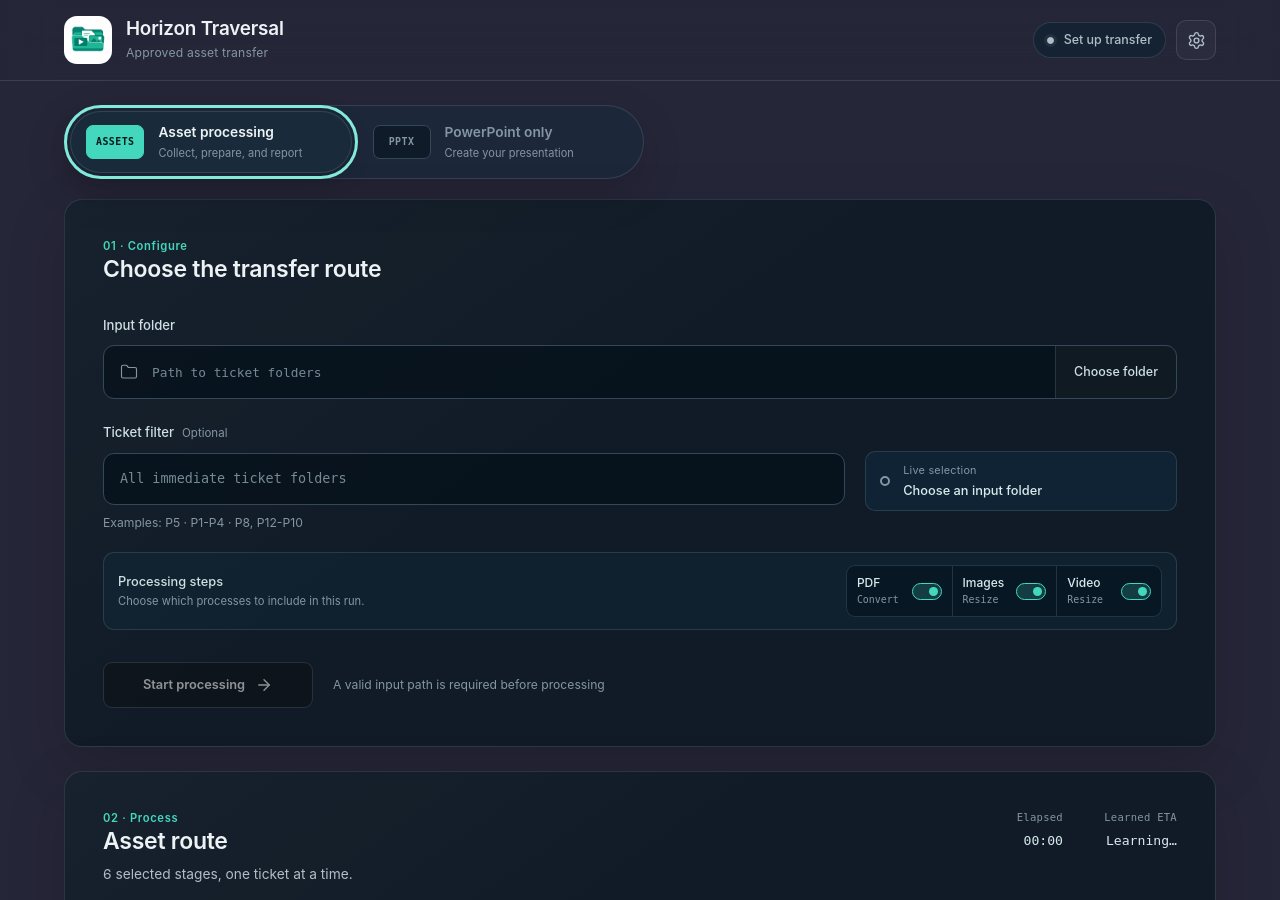
Horizon Traversal workbench › requests cooperative cancellation for the active PowerPoint run
Press ArrowRight in the tab "Assets Asset processing Collect, prepare, and report", box [70,111,352,173]
Wait 1 ms
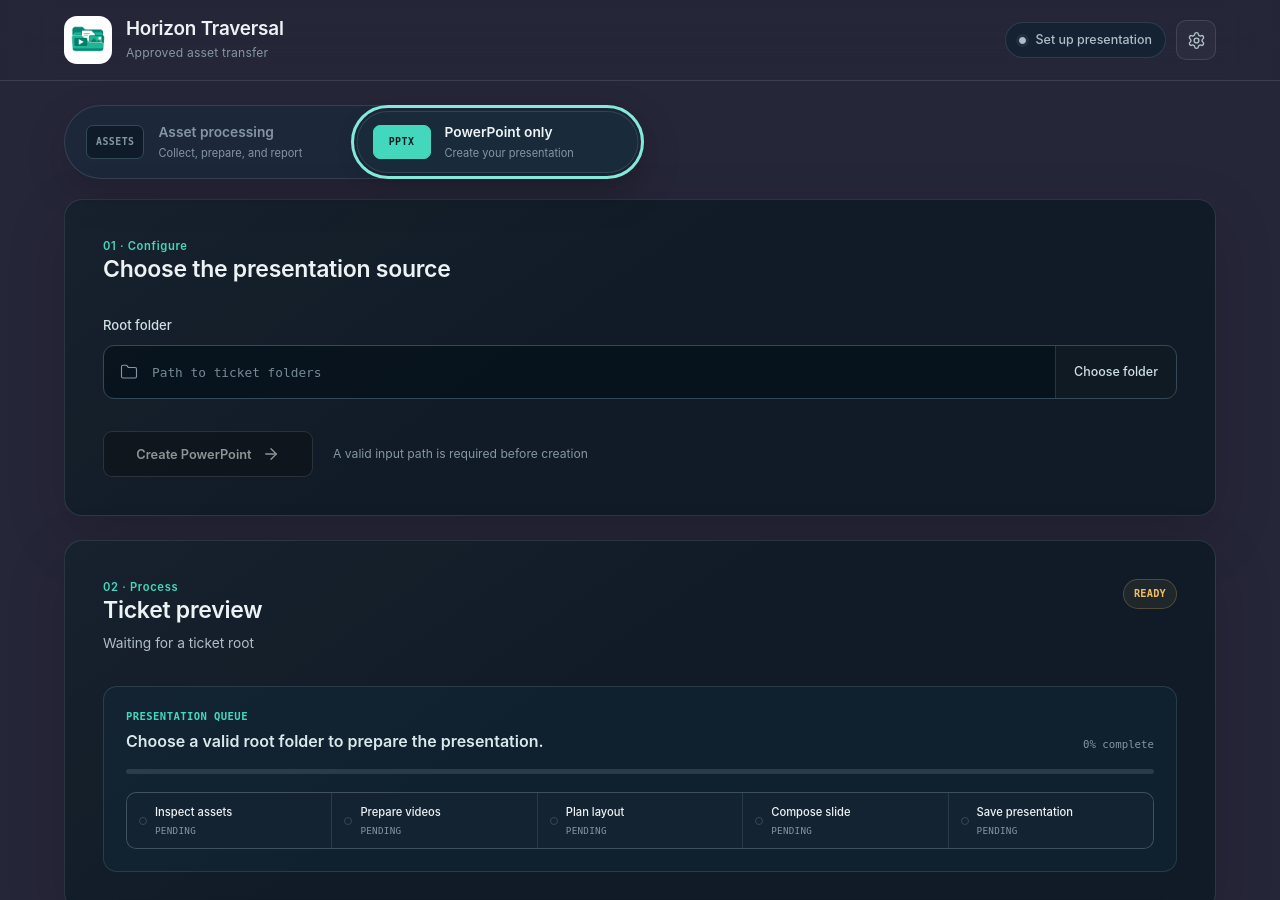
Type "/powerpoint-tickets" into the field labelled "Root folder" at point(596, 372), box [138,348,1055,397]
Wait 360 ms
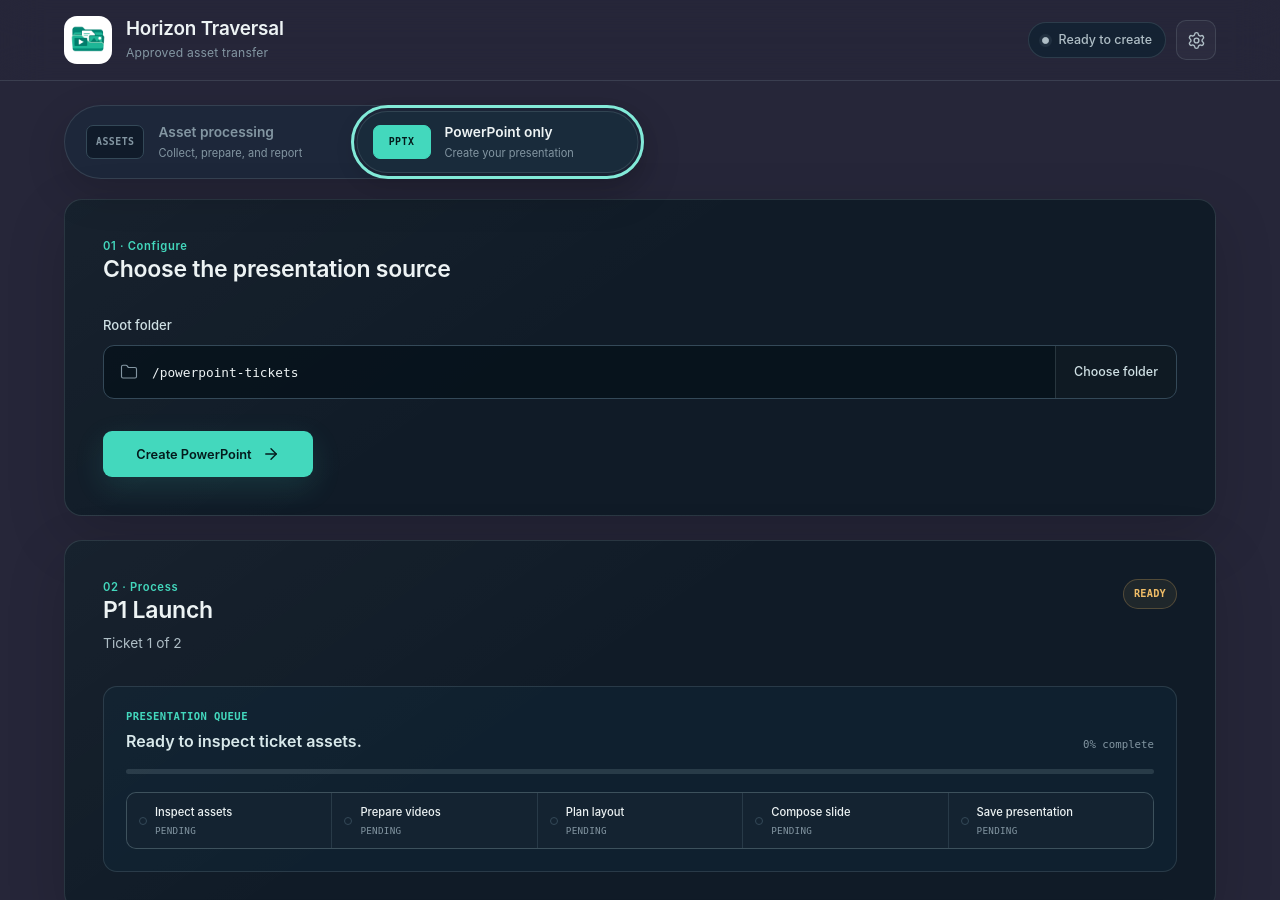
Click the button "Create PowerPoint" at point(208, 454), box [103,431,313,477]
Wait 20 ms
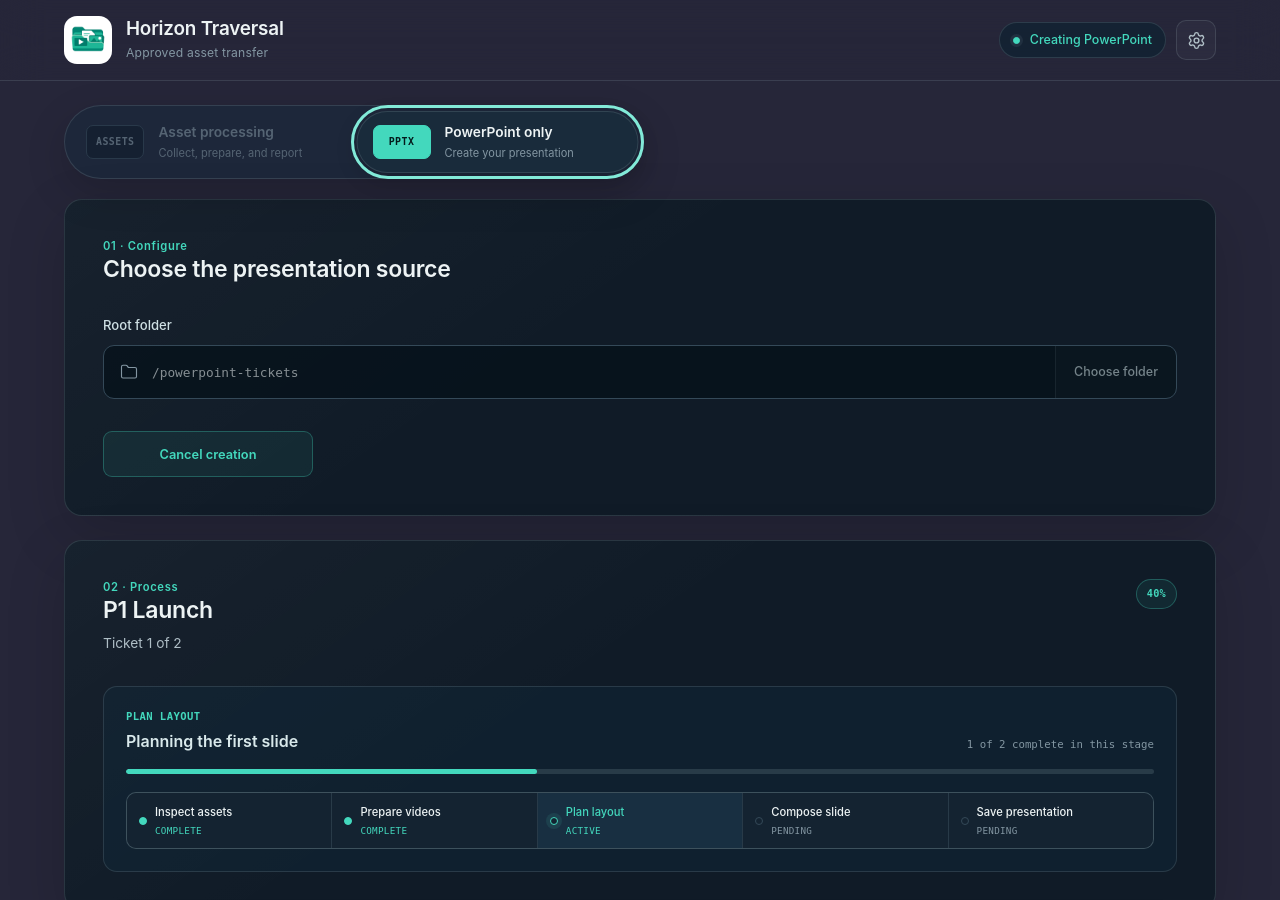
Click the button "Cancel creation" at point(208, 454), box [103,431,313,477]
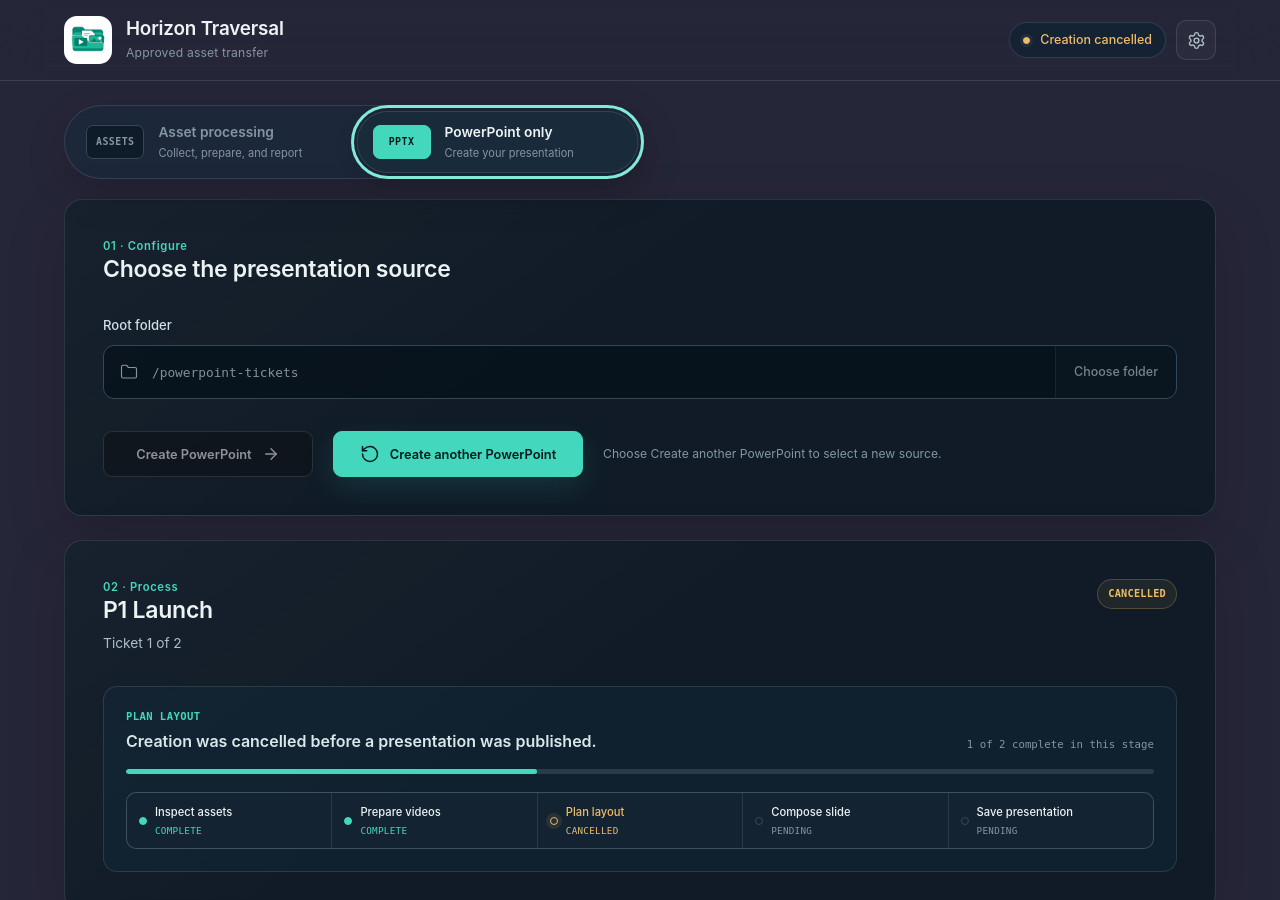
Expected: the button named "Cancelling…" is disabled, [103,431,313,477]
Expected: the text "Cancelled" is shown, [1097,579,1177,609]
Expected: the list item "Plan layout" shows "cancelled", [566,824,618,836]
